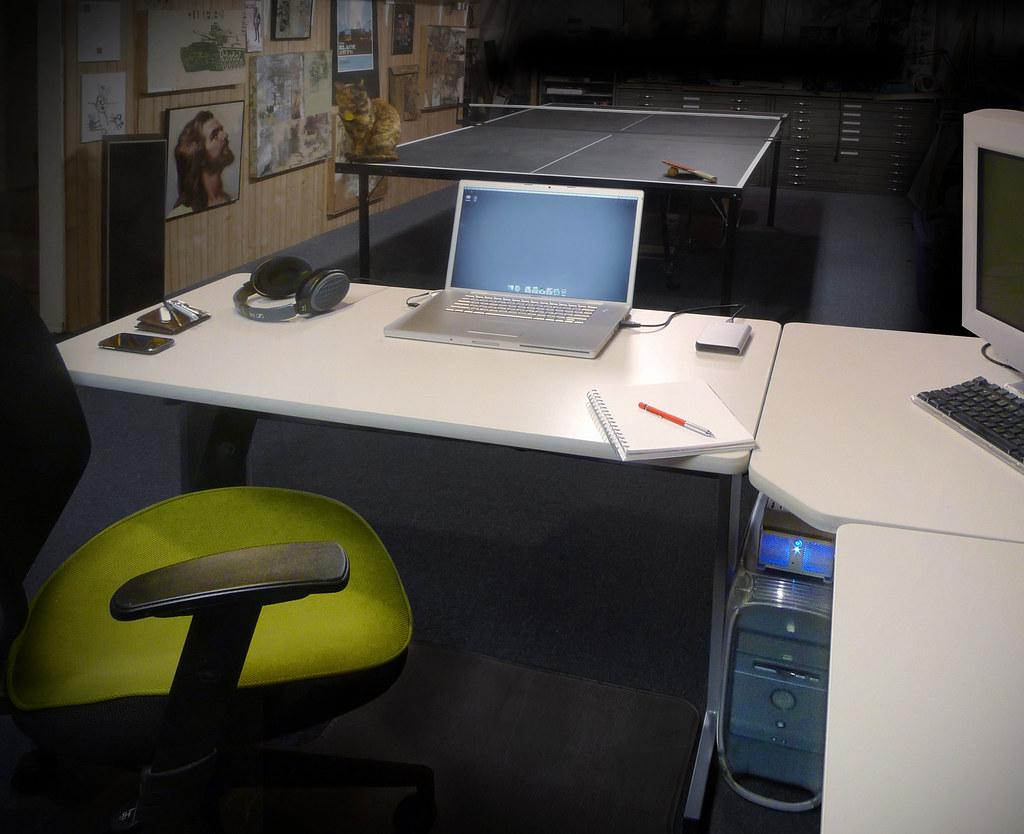computer: (718, 491, 1023, 833), (383, 179, 646, 360), (719, 492, 836, 801)
